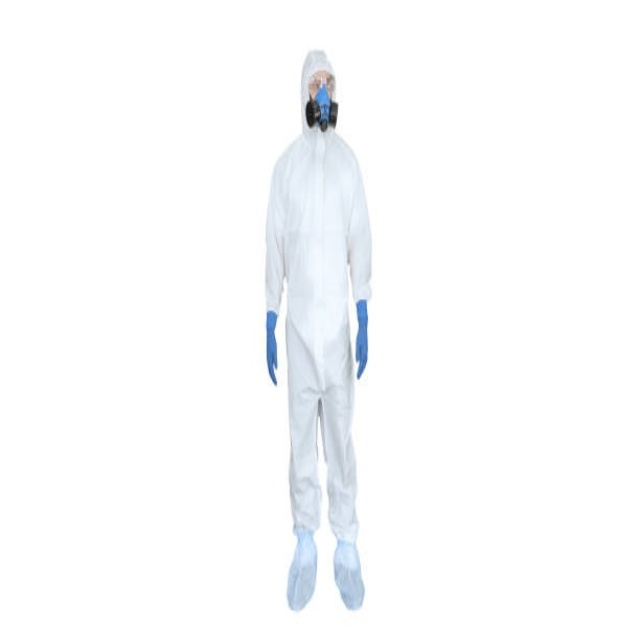Guantes: (355, 301, 369, 380), (266, 311, 279, 386)
Mascara: (305, 80, 339, 128)
